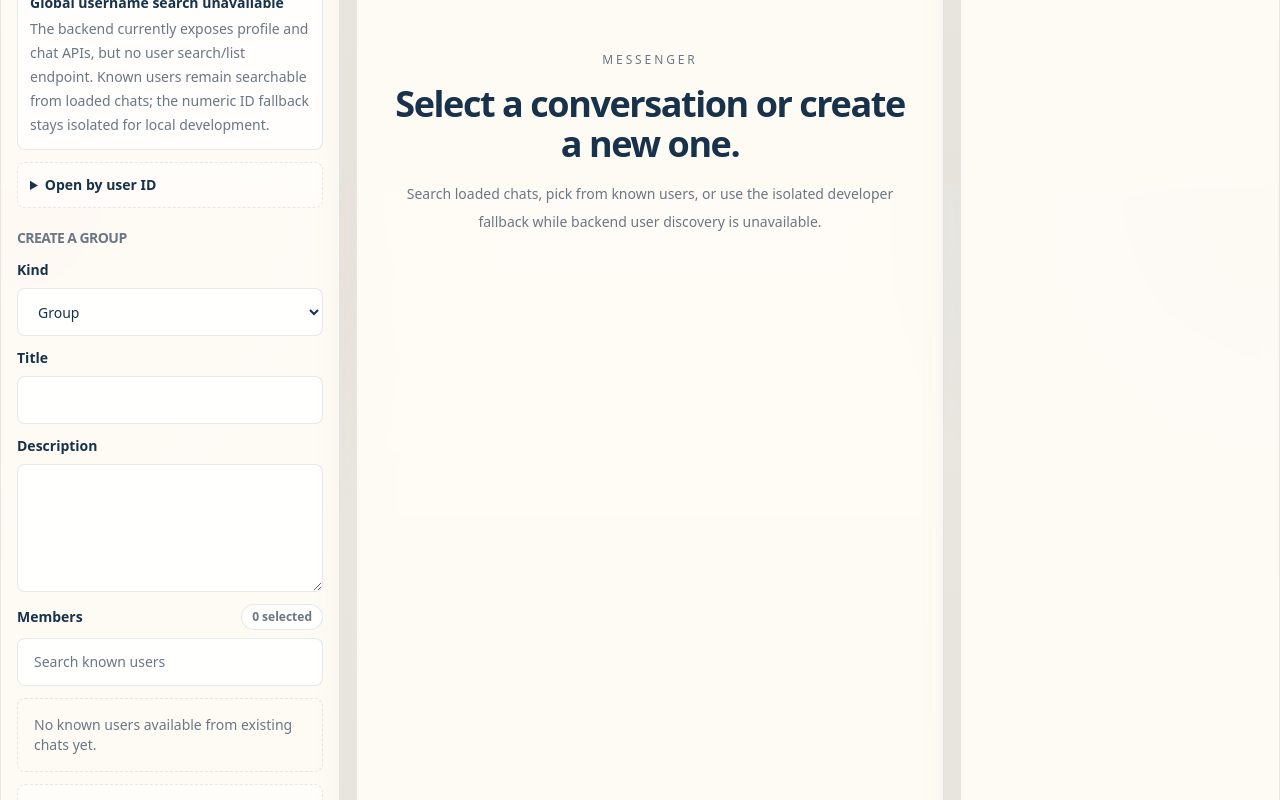
it: MessengerWorkspace › creates a supergroup and shows it in the list
(page scrolled)
Type "Platform" into the field named "Group title" at (170, 400), box [17,376,323,424]
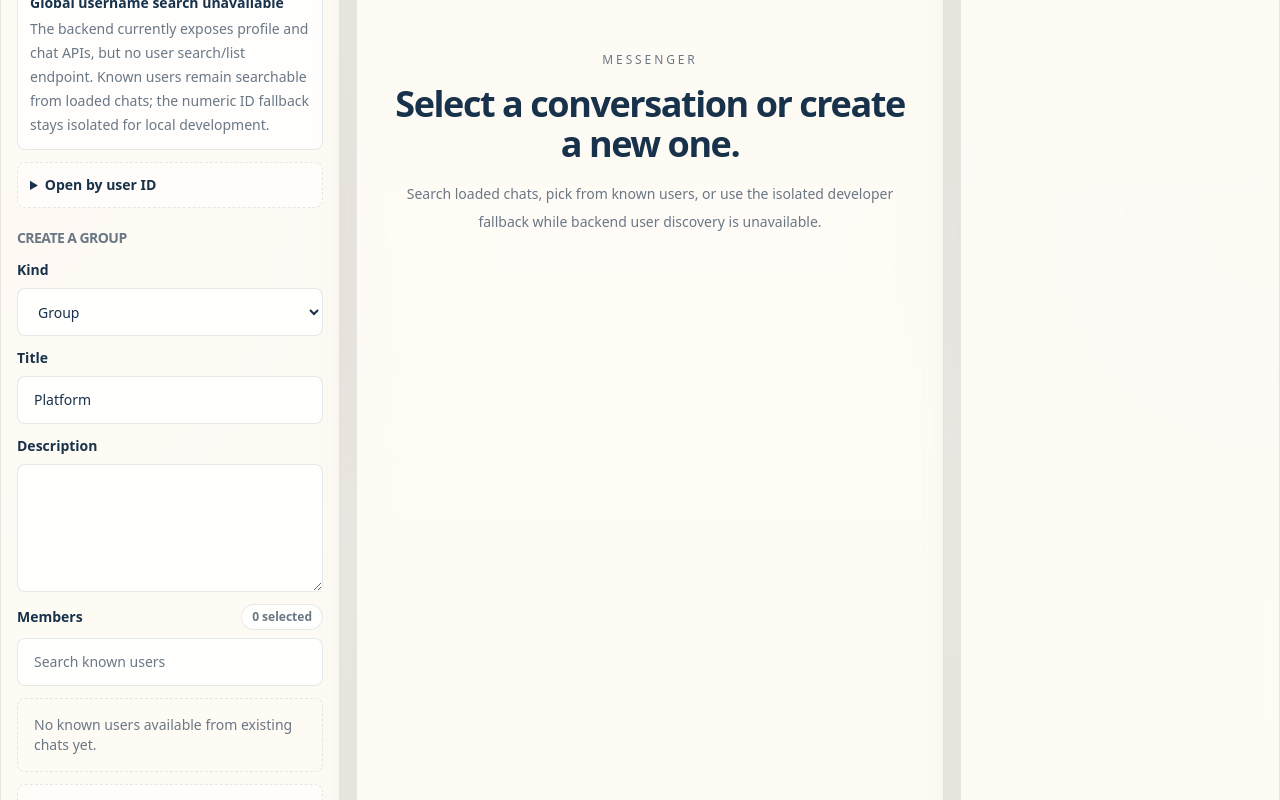
Type "Roadmap" into the text box named "Group description" at (170, 528), box [17,464,323,592]
(page scrolled)
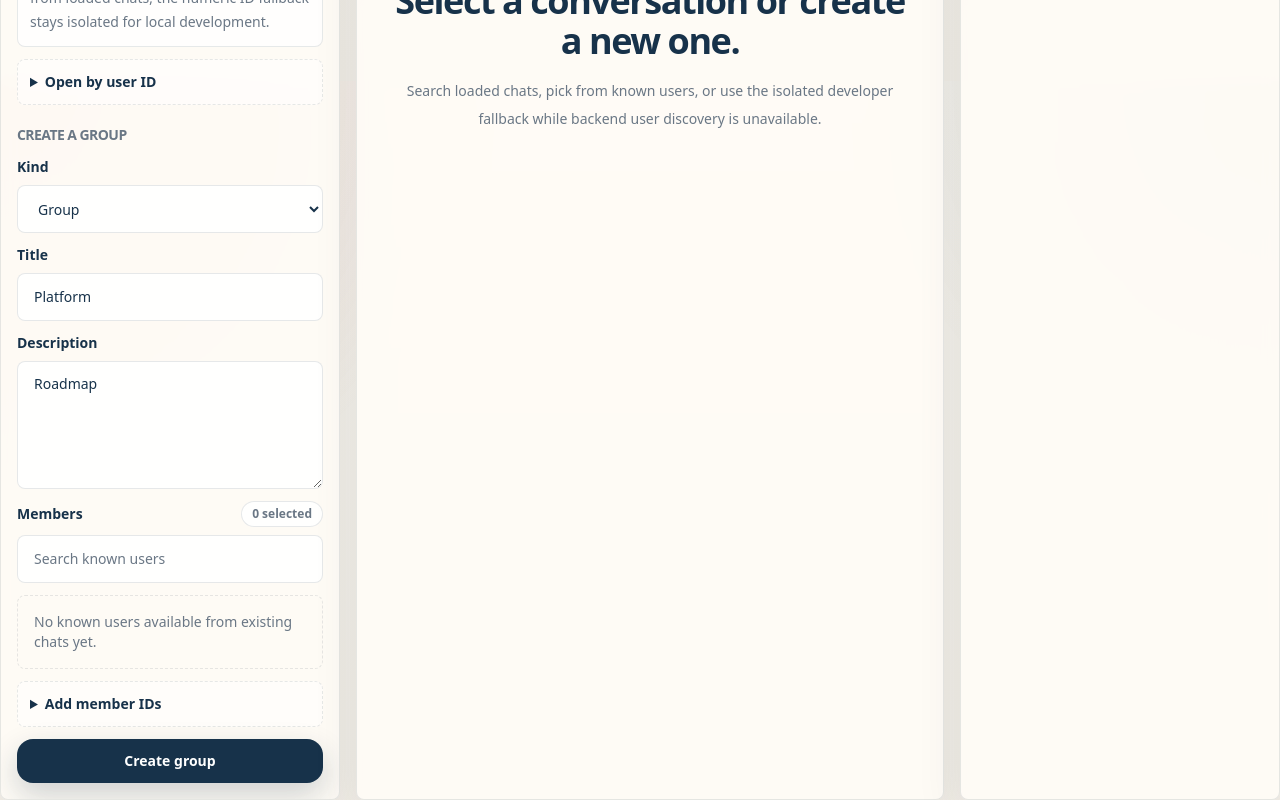
Click the heading "Add member IDs" at (103, 704), box [45,694,162,713]
(page scrolled)
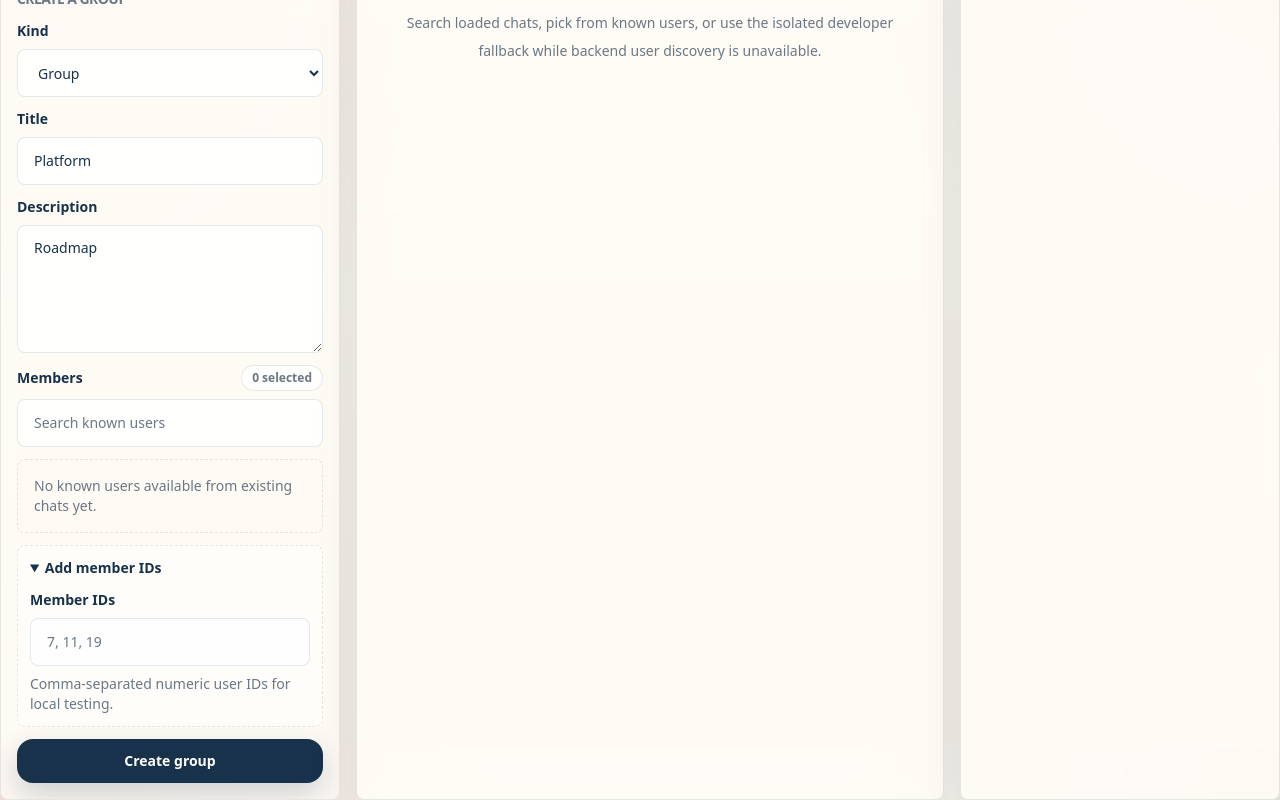
Type "2" into the field named "Developer group member IDs" at (170, 642), box [30,618,310,666]
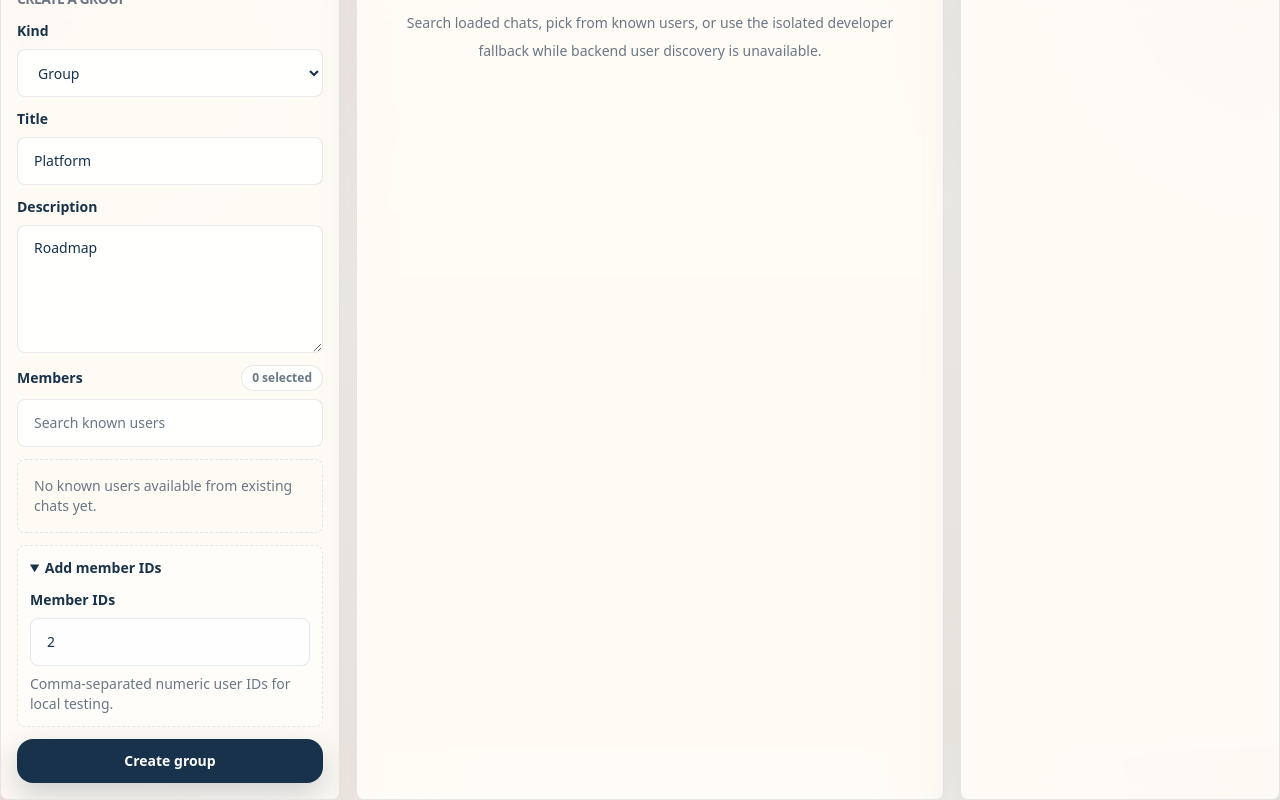
Select "Supergroup" in the dropdown named "Group kind" at (170, 73), box [17,49,323,97]
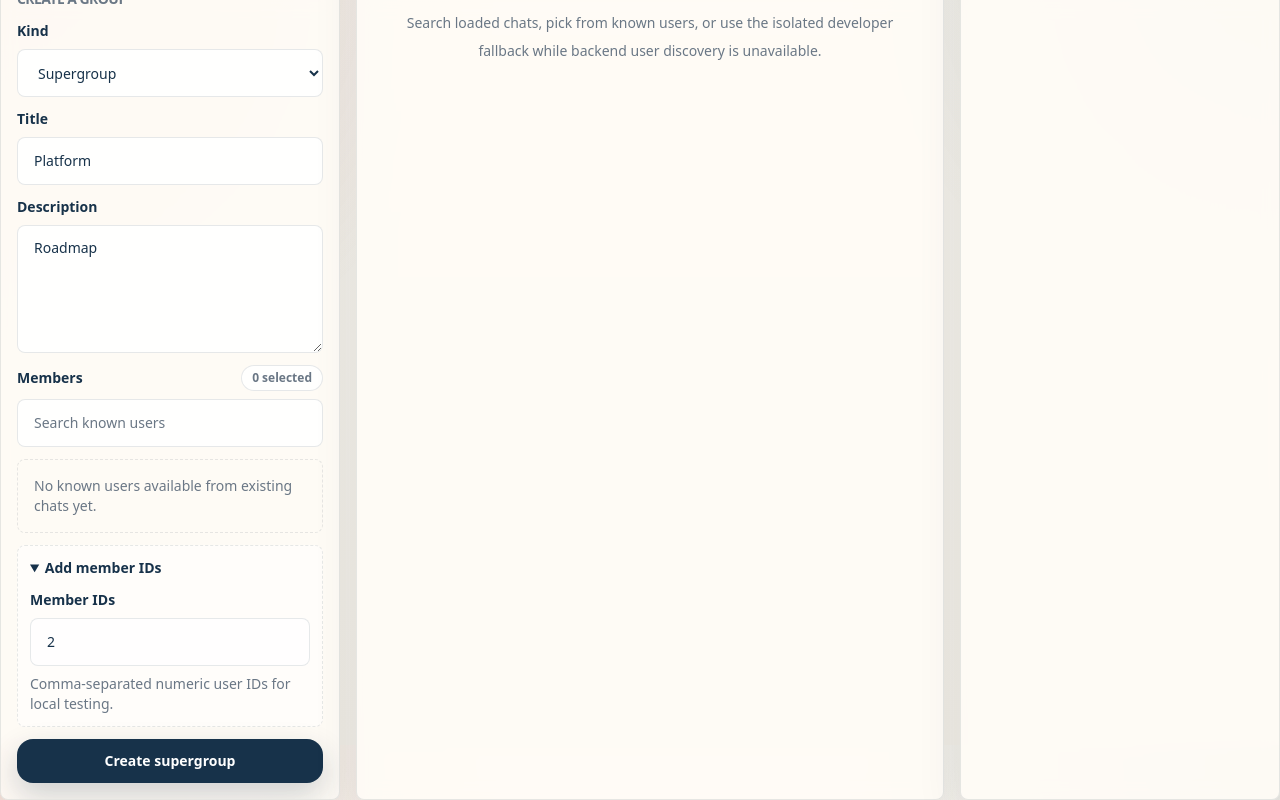
Click the button "Create supergroup" at (170, 761), box [17,739,323,783]
(page scrolled)
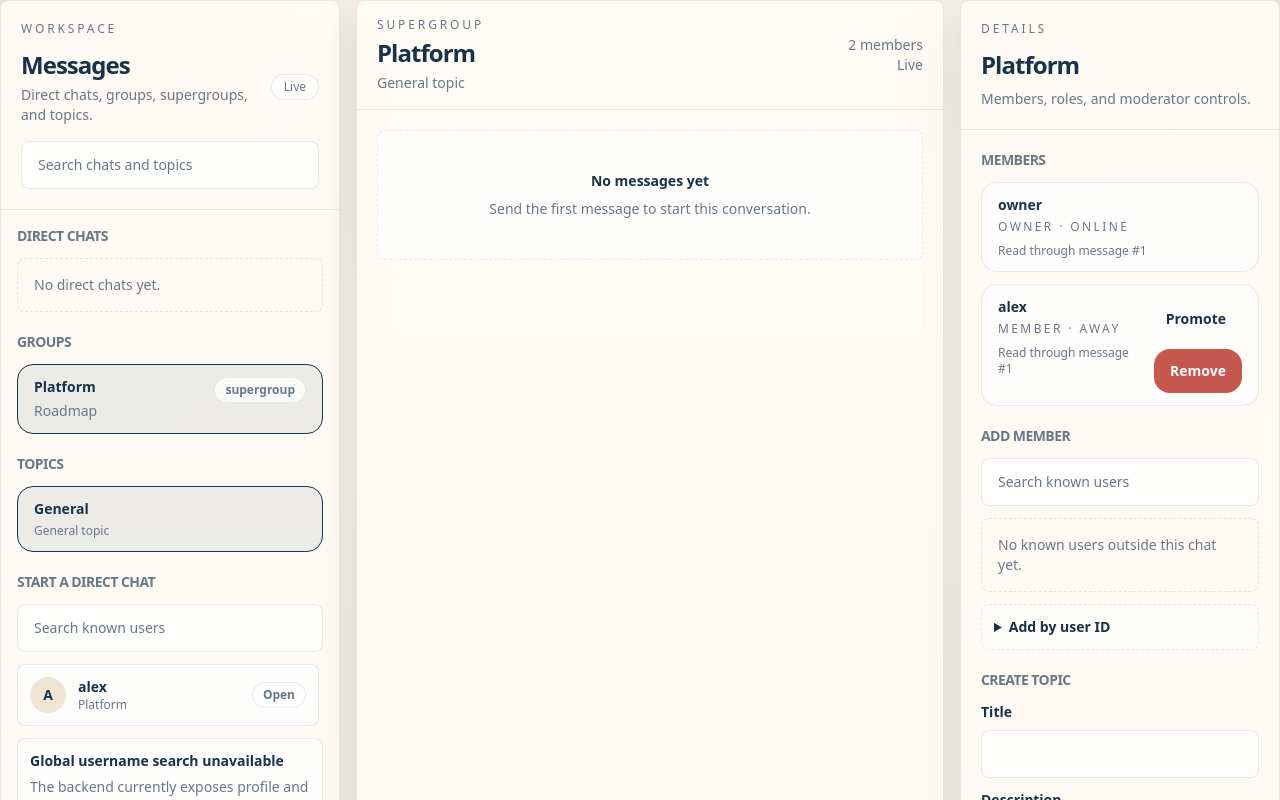
expect the text "Direct chats, groups, supergroups, and topics." is shown: met, box [21,85,259,125]
expect the 1st text "Platform" is shown: met, box [34,377,97,397]
